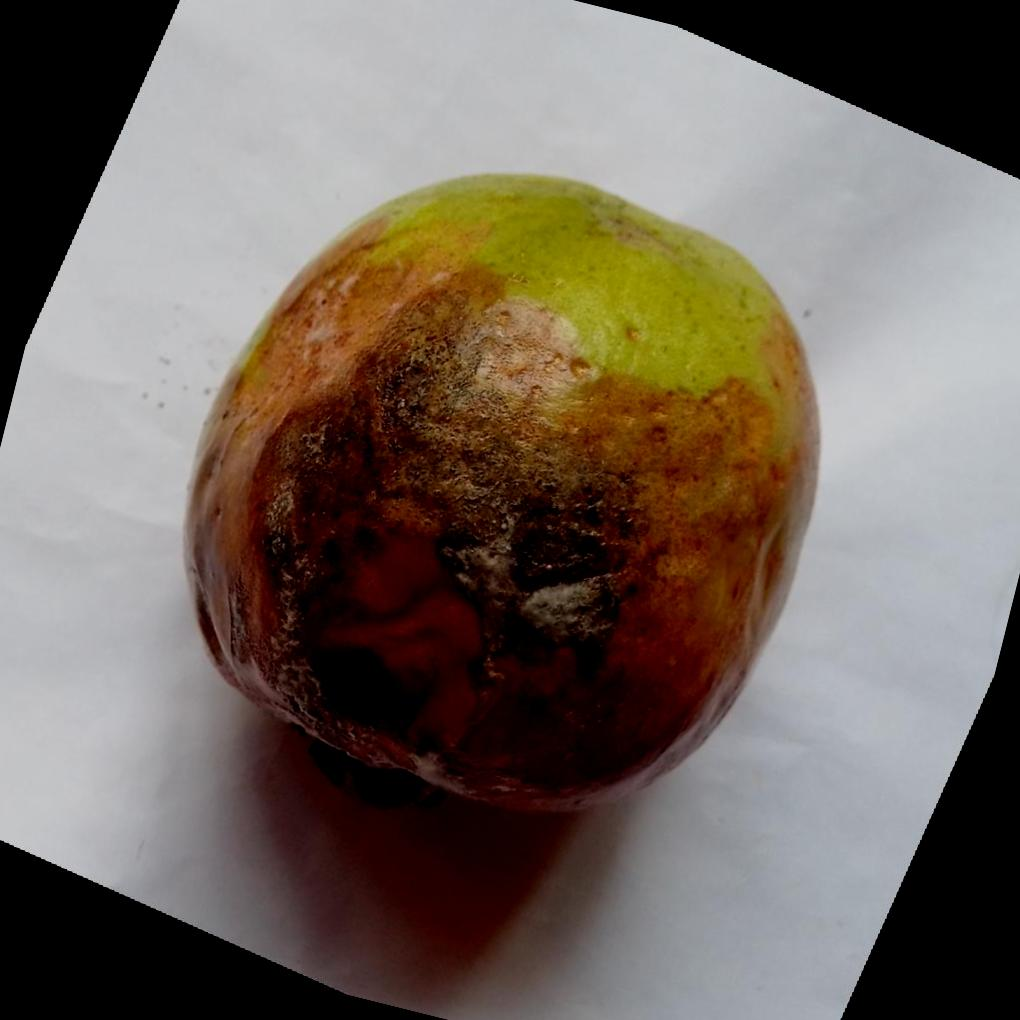FreshOrange: (180, 172, 822, 821)
